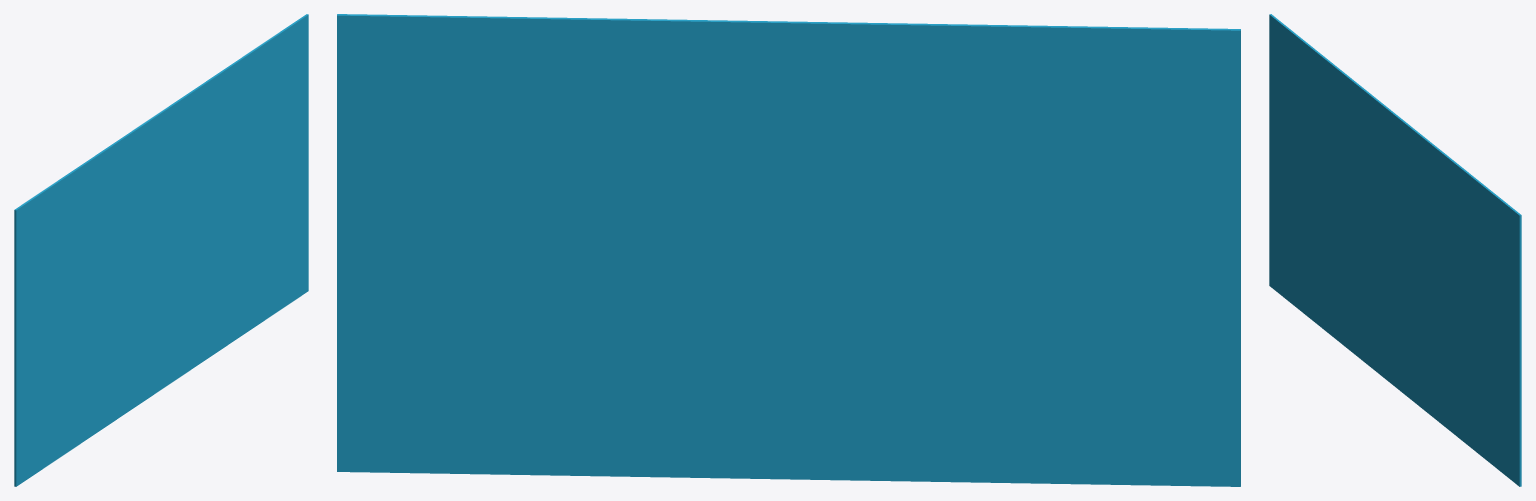
3 renders of one model, left to right at view 1: azimuth 30°, elevation 25°; view 2: azimuth 150°, elevation 25°; view 3: azimuth 270°, elevation 25°, orthographic. The views are drawn at different scales.
Parts seen in each view (by area): view 1: Visual_Cube; view 2: Visual_Cube; view 3: Visual_Cube.
Boxes of the visible parts, box(x1,y1,x2,y2) form: Visual_Cube: box(14, 14, 308, 486); Visual_Cube: box(337, 14, 1240, 486); Visual_Cube: box(1269, 14, 1521, 486).
Bounding box in the file's own units: 420 × 264 × 222.
